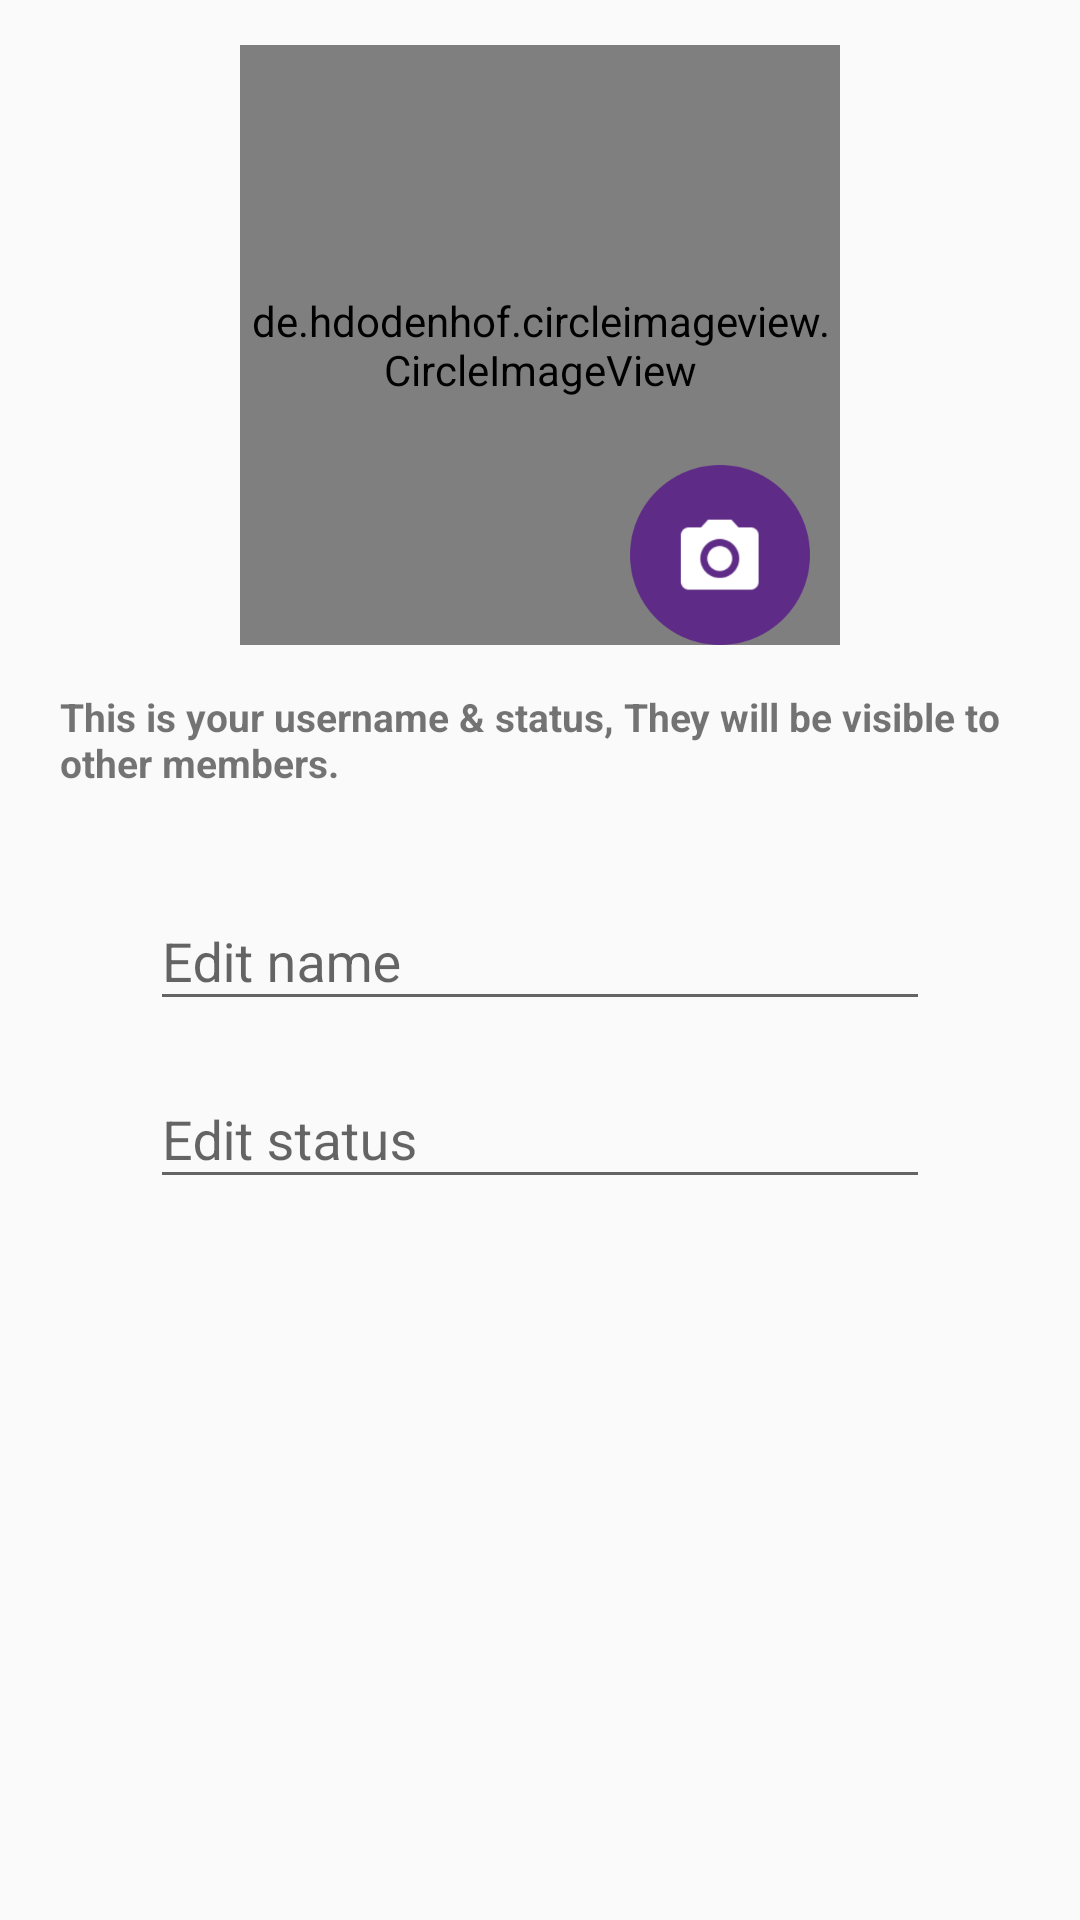

Icons on this 1080px×1920px Android screen, each with its box as region(x1, y1, x2, y2):
camera: region(630, 465, 810, 645)
